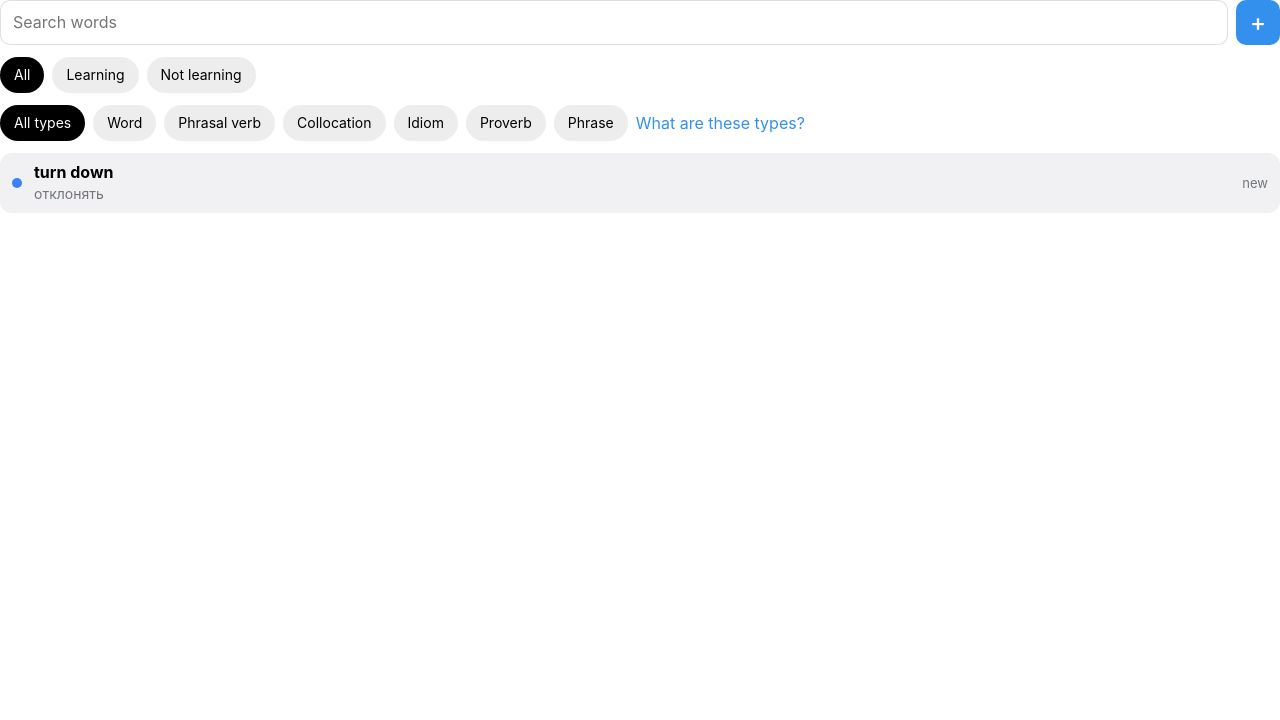
CardsPage › card sheet › keeps the confirmation open and shows the error when deleting fails
Click the text "turn down". click: click(74, 172)
box: [34,162,114,182]
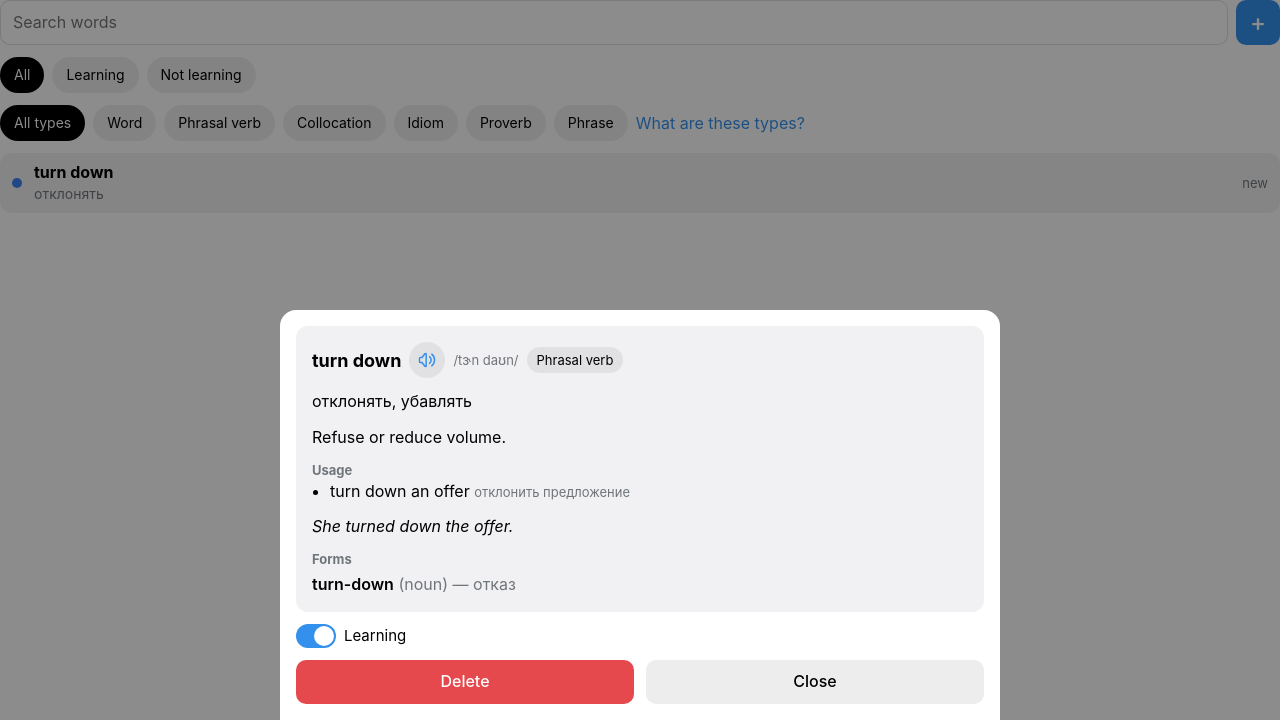
Click the button "Delete". click: click(465, 682)
box: [296,660,634,704]
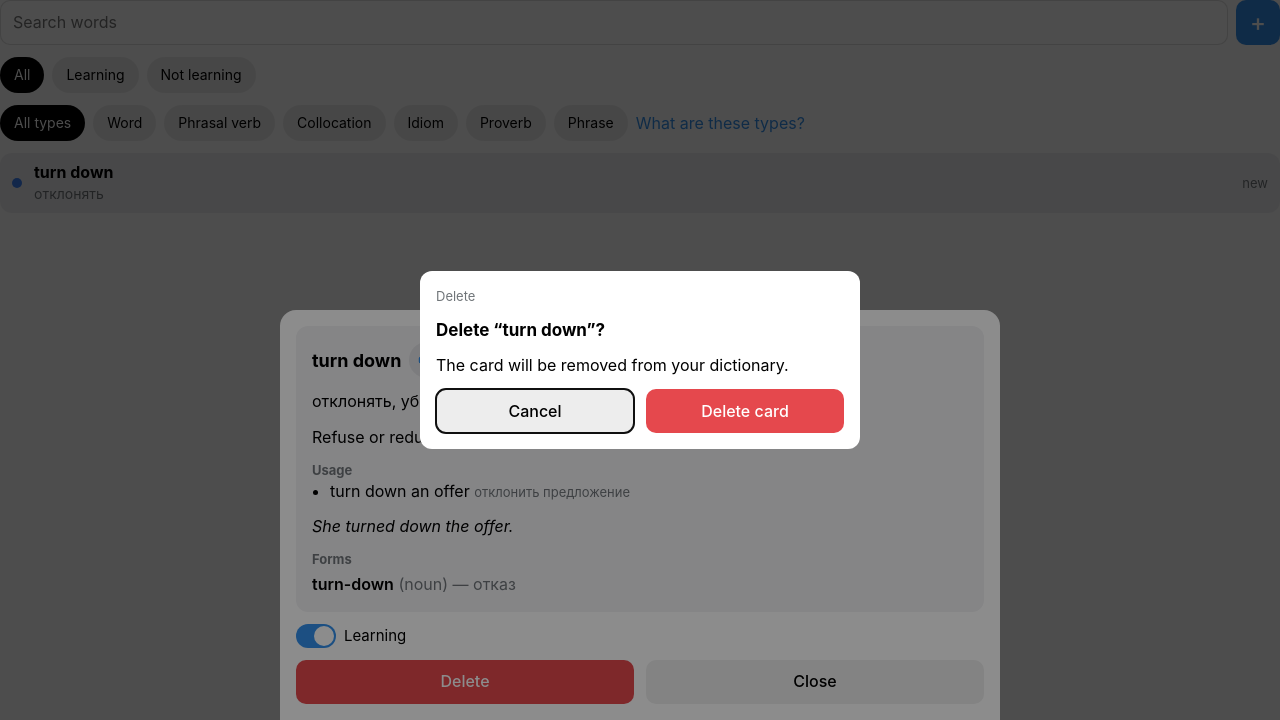
Click the button "Delete card". click: click(745, 411)
box: [646,389,844,433]
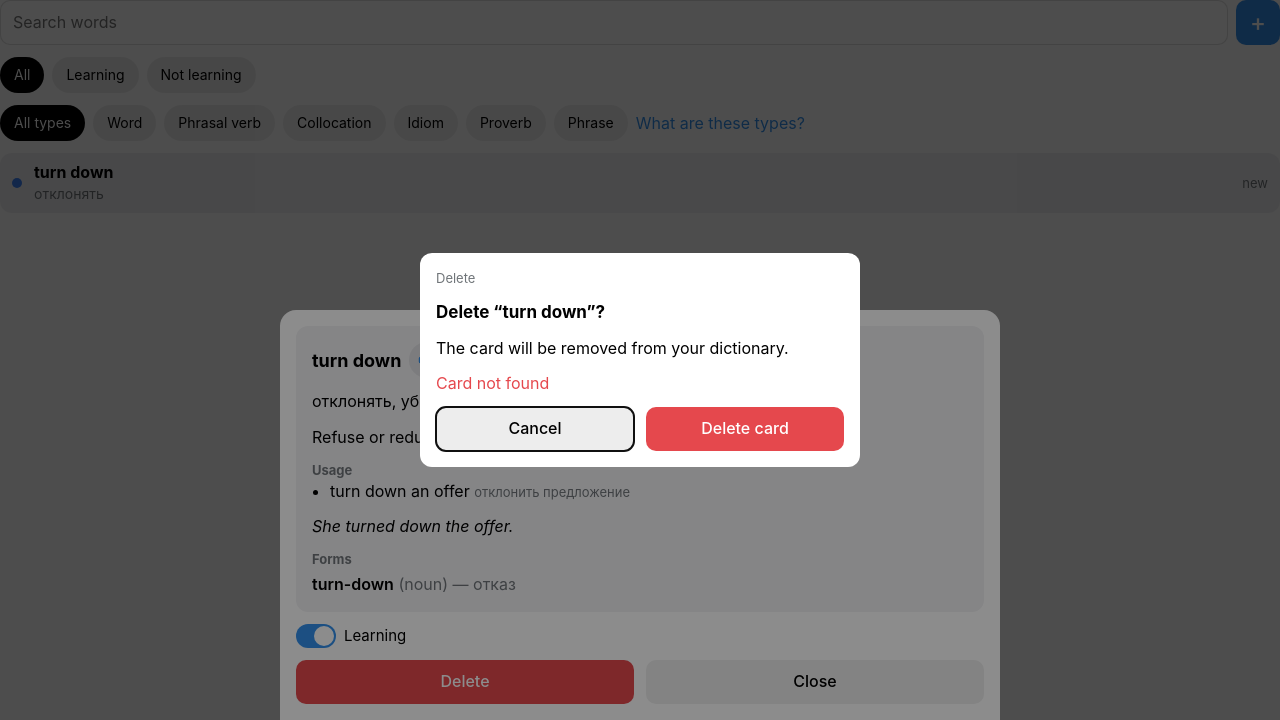
Check: the dialog "Delete “turn down”?" is shown, box [420,253,860,467]
Check: the text "Card not found" is shown, box [436,373,549,393]
